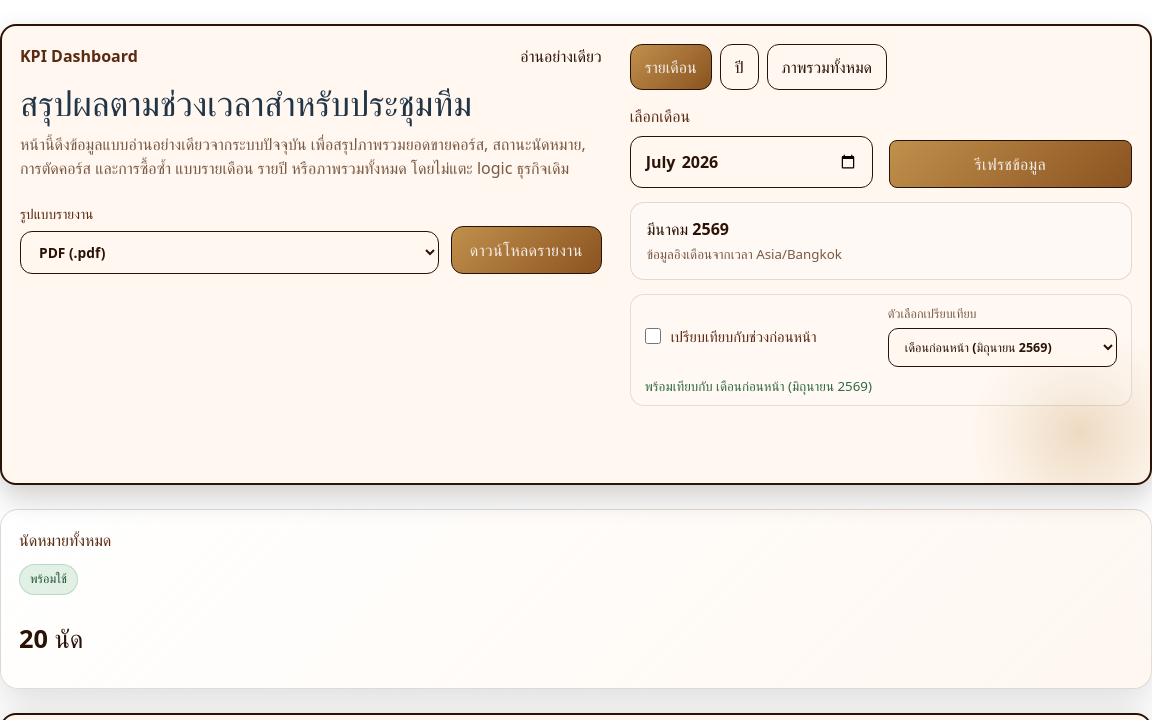
it: KpiDashboardPage › renders comparison deltas when compare mode is enabled
Click the checkbox labelled "เปรียบเทียบกับช่วงก่อนหน้า".
click(653, 336)  # box [645, 328, 661, 344]
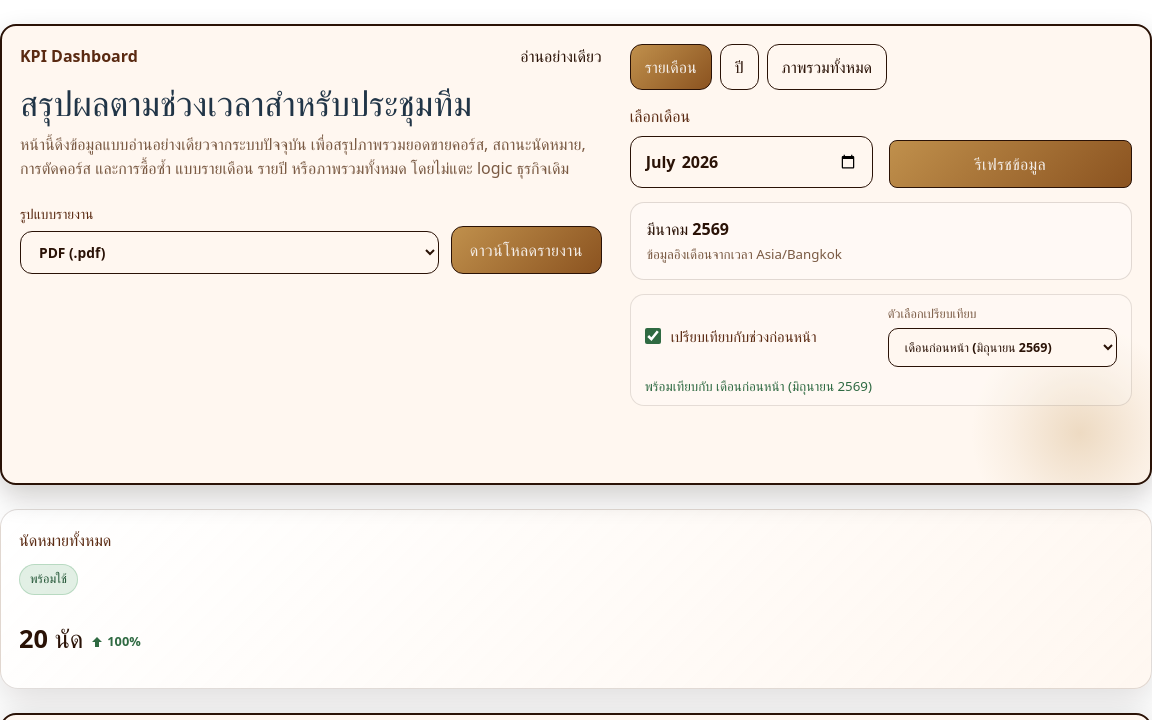
Expected: the text "พร้อมเทียบกับ เดือนก่อนหน้า (มิถุนายน 2569)" is shown, [645, 377, 872, 395]
Now the element with class "kpi-delta" is shown, box [91, 632, 141, 652]
Now the text "100%" is shown, box [107, 632, 141, 652]
